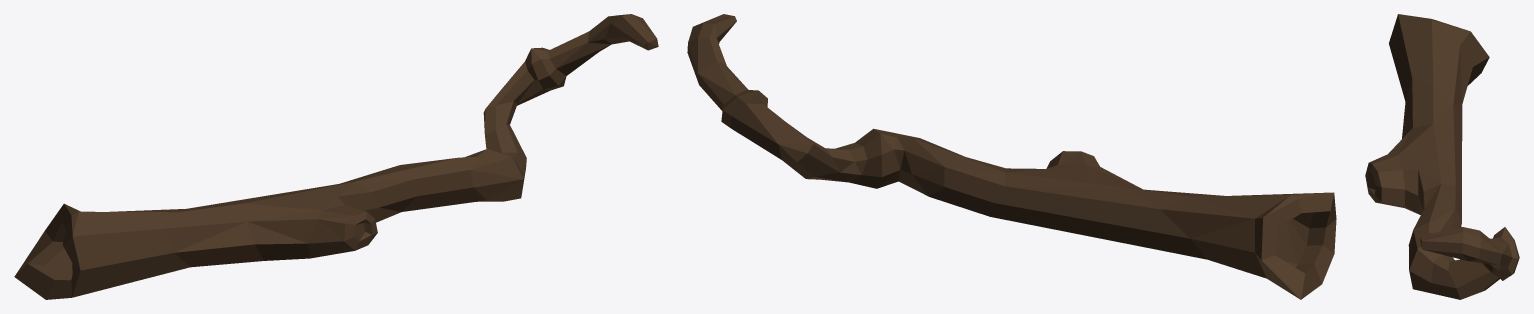
Rendered from EM_Branch04a.fbx.
3 renders of one model, left to right at view 1: azimuth 30°, elevation 25°; view 2: azimuth 150°, elevation 25°; view 3: azimuth 270°, elevation 25°, orthographic. The views are drawn at different scales.
Parts seen in each view (by area): view 1: EM_Branch04a_LOD0; view 2: EM_Branch04a_LOD0; view 3: EM_Branch04a_LOD0.
Boxes of the visible parts, x1=… form: EM_Branch04a_LOD0: x1=14, y1=14, x2=658, y2=299; EM_Branch04a_LOD0: x1=687, y1=14, x2=1336, y2=299; EM_Branch04a_LOD0: x1=1365, y1=14, x2=1519, y2=299.
Size of what is drawn, in the model's own units: 1.36 by 0.2908 by 0.3213.
